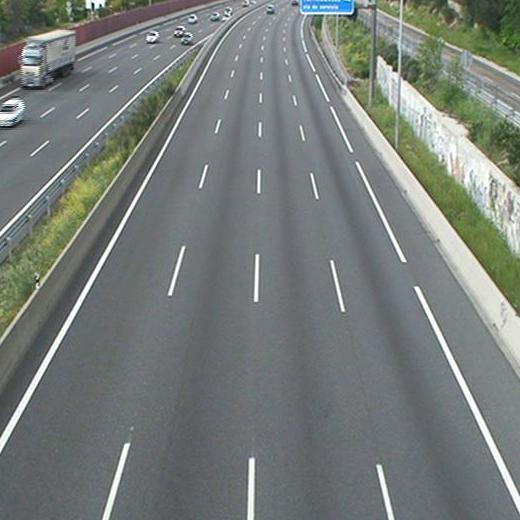car: (265, 6, 274, 13)
